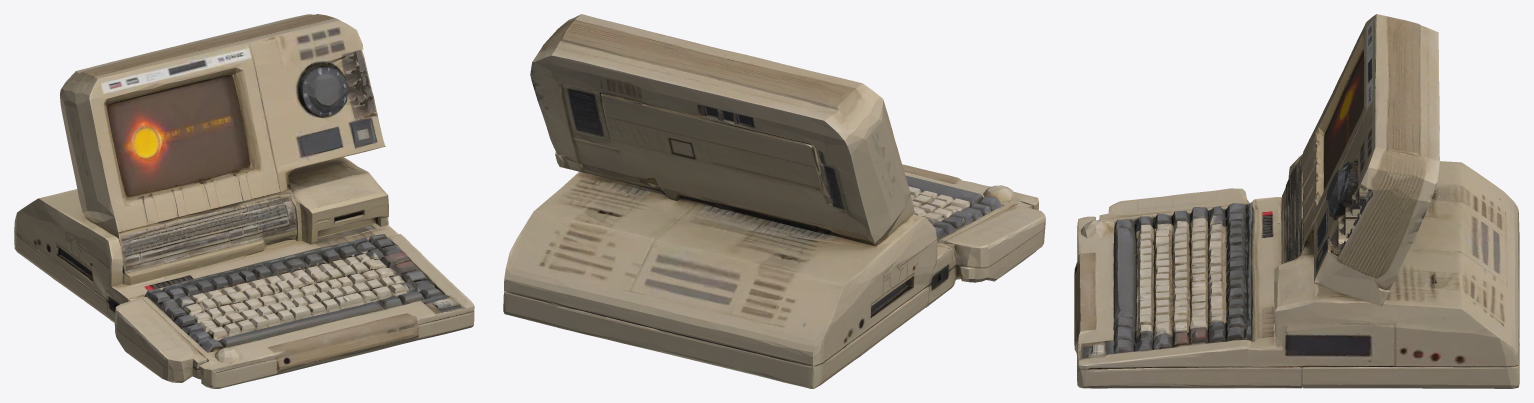
File: old-computer.glb
3 views of the same model, side by side, from view 1: azimuth 30°, elevation 25°; view 2: azimuth 150°, elevation 25°; view 3: azimuth 270°, elevation 25° (orthographic). The views are drawn at different scales.
Visible parts, largest first — view 1: temp_Material.001_0; view 2: temp_Material.001_0; view 3: temp_Material.001_0.
Part boxes in pixels (x1,y1,x2,y2): temp_Material.001_0: (14,14,474,388); temp_Material.001_0: (503,14,1045,388); temp_Material.001_0: (1074,14,1519,388).
Bounding box in the file's own units: 0.45 × 0.2973 × 0.4985.
Materials: 1 (1 with a texture image).
